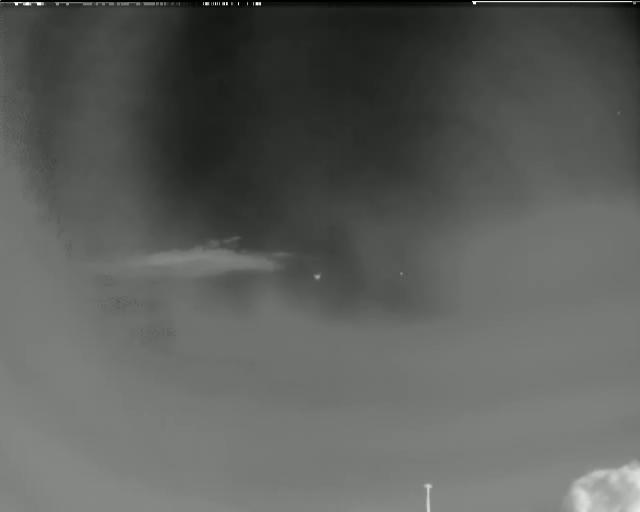uav: (313, 273, 323, 281)
